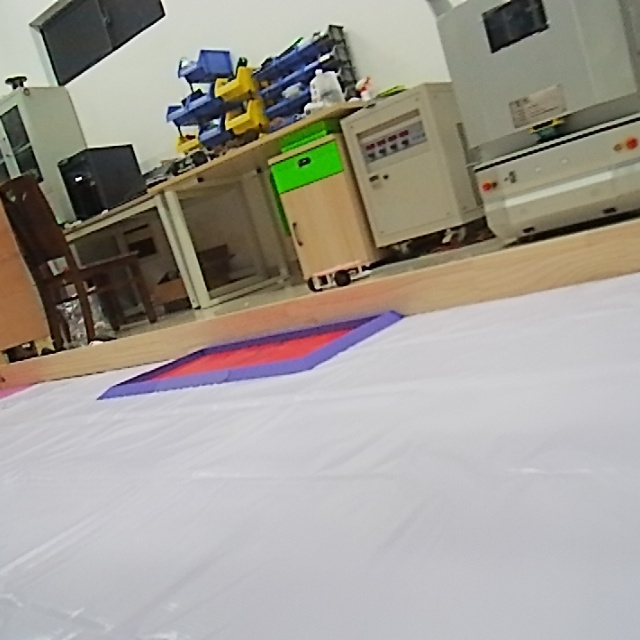green: (26, 0, 169, 86)
